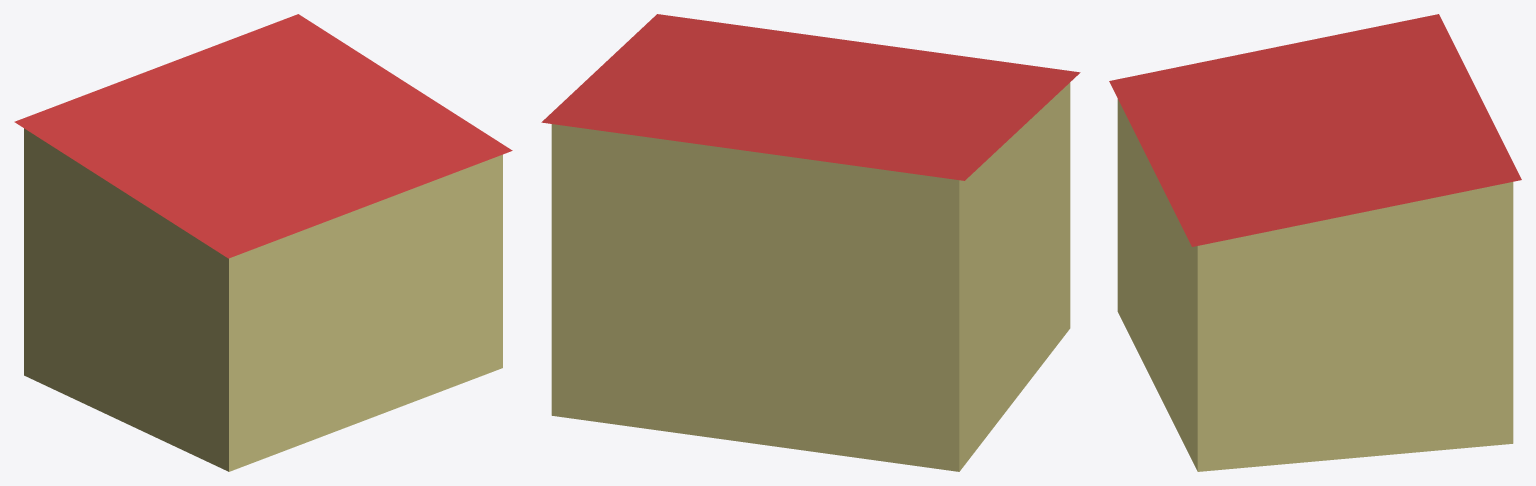
The picture shows the model from 3 angles, left to right: view 1: azimuth 30°, elevation 25°; view 2: azimuth 150°, elevation 25°; view 3: azimuth 270°, elevation 25°; orthographic projection. The views are drawn at different scales.
Bounding box in the file's own units: 15.59 × 13.92 × 9.9.
